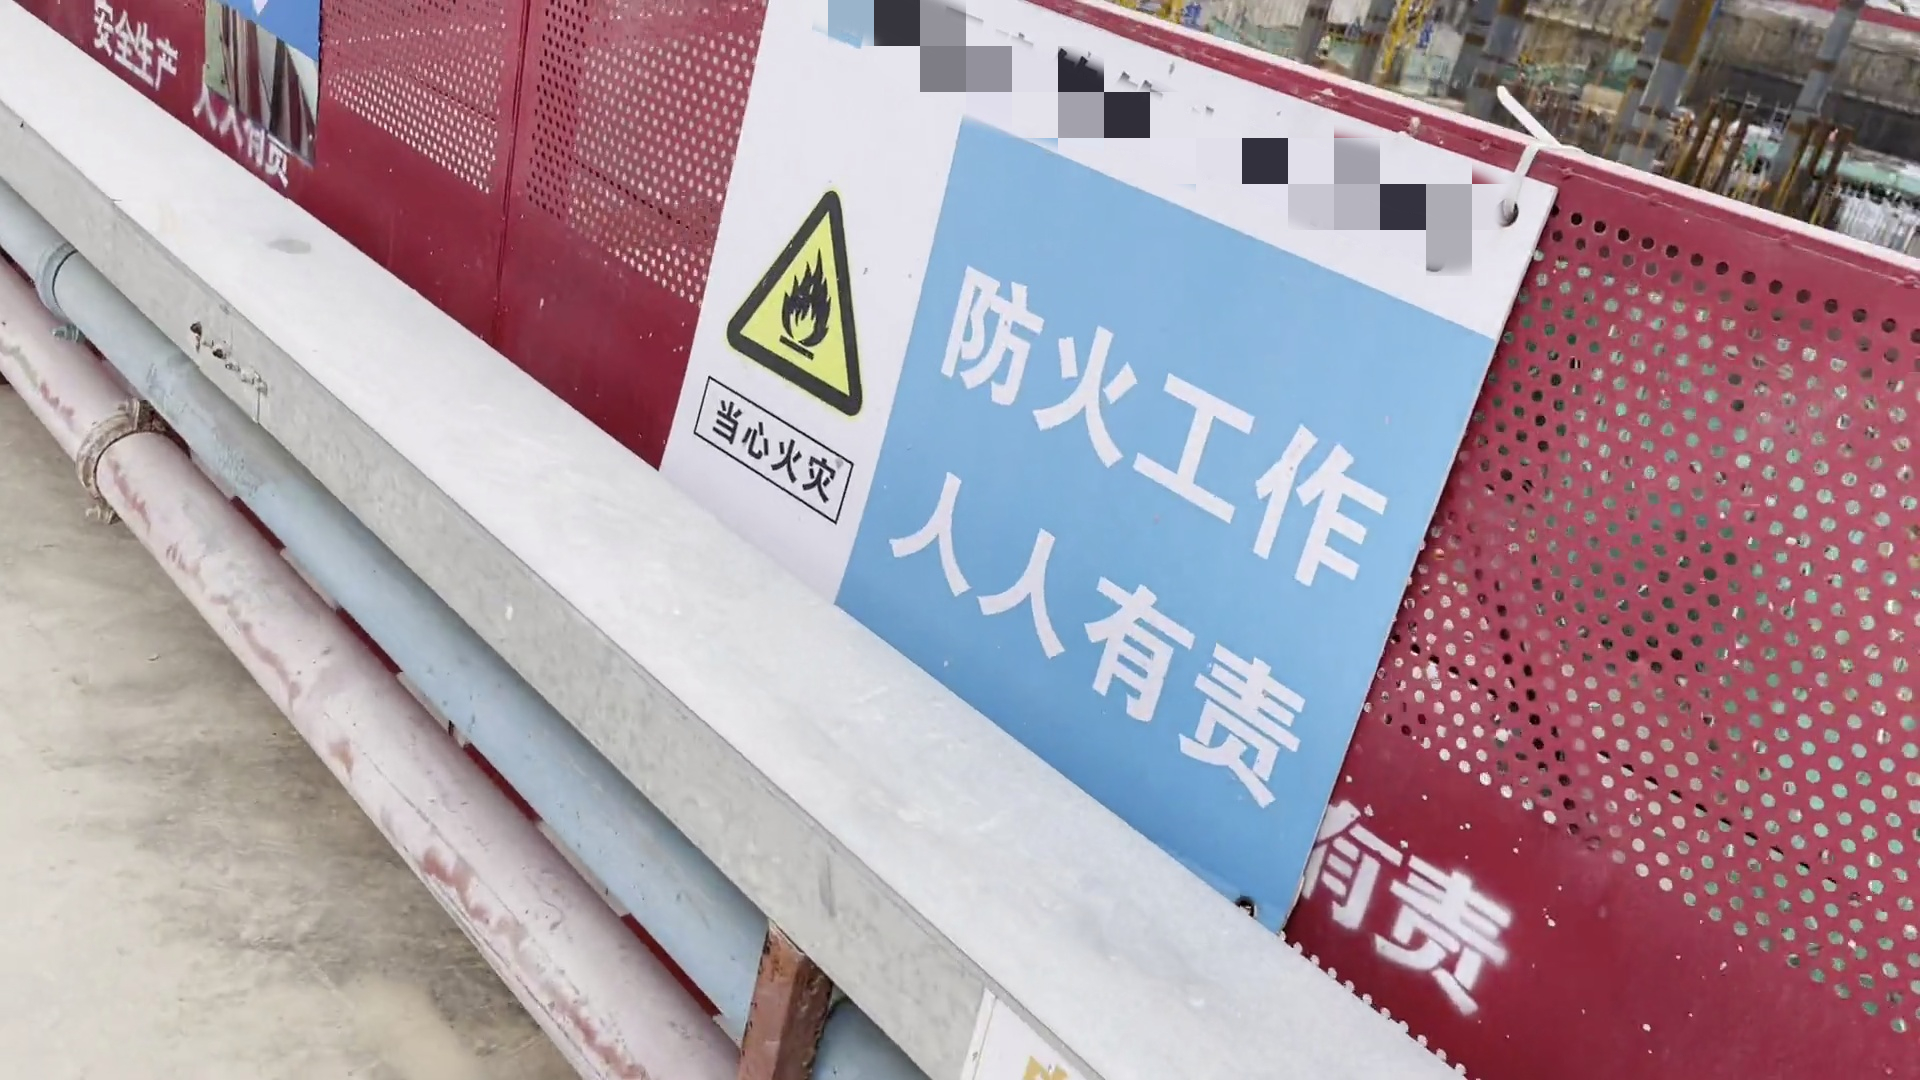fence: (15, 1, 1175, 857), (1160, 30, 1920, 1080)
slogan: (634, 7, 1590, 949), (160, 3, 357, 174)
